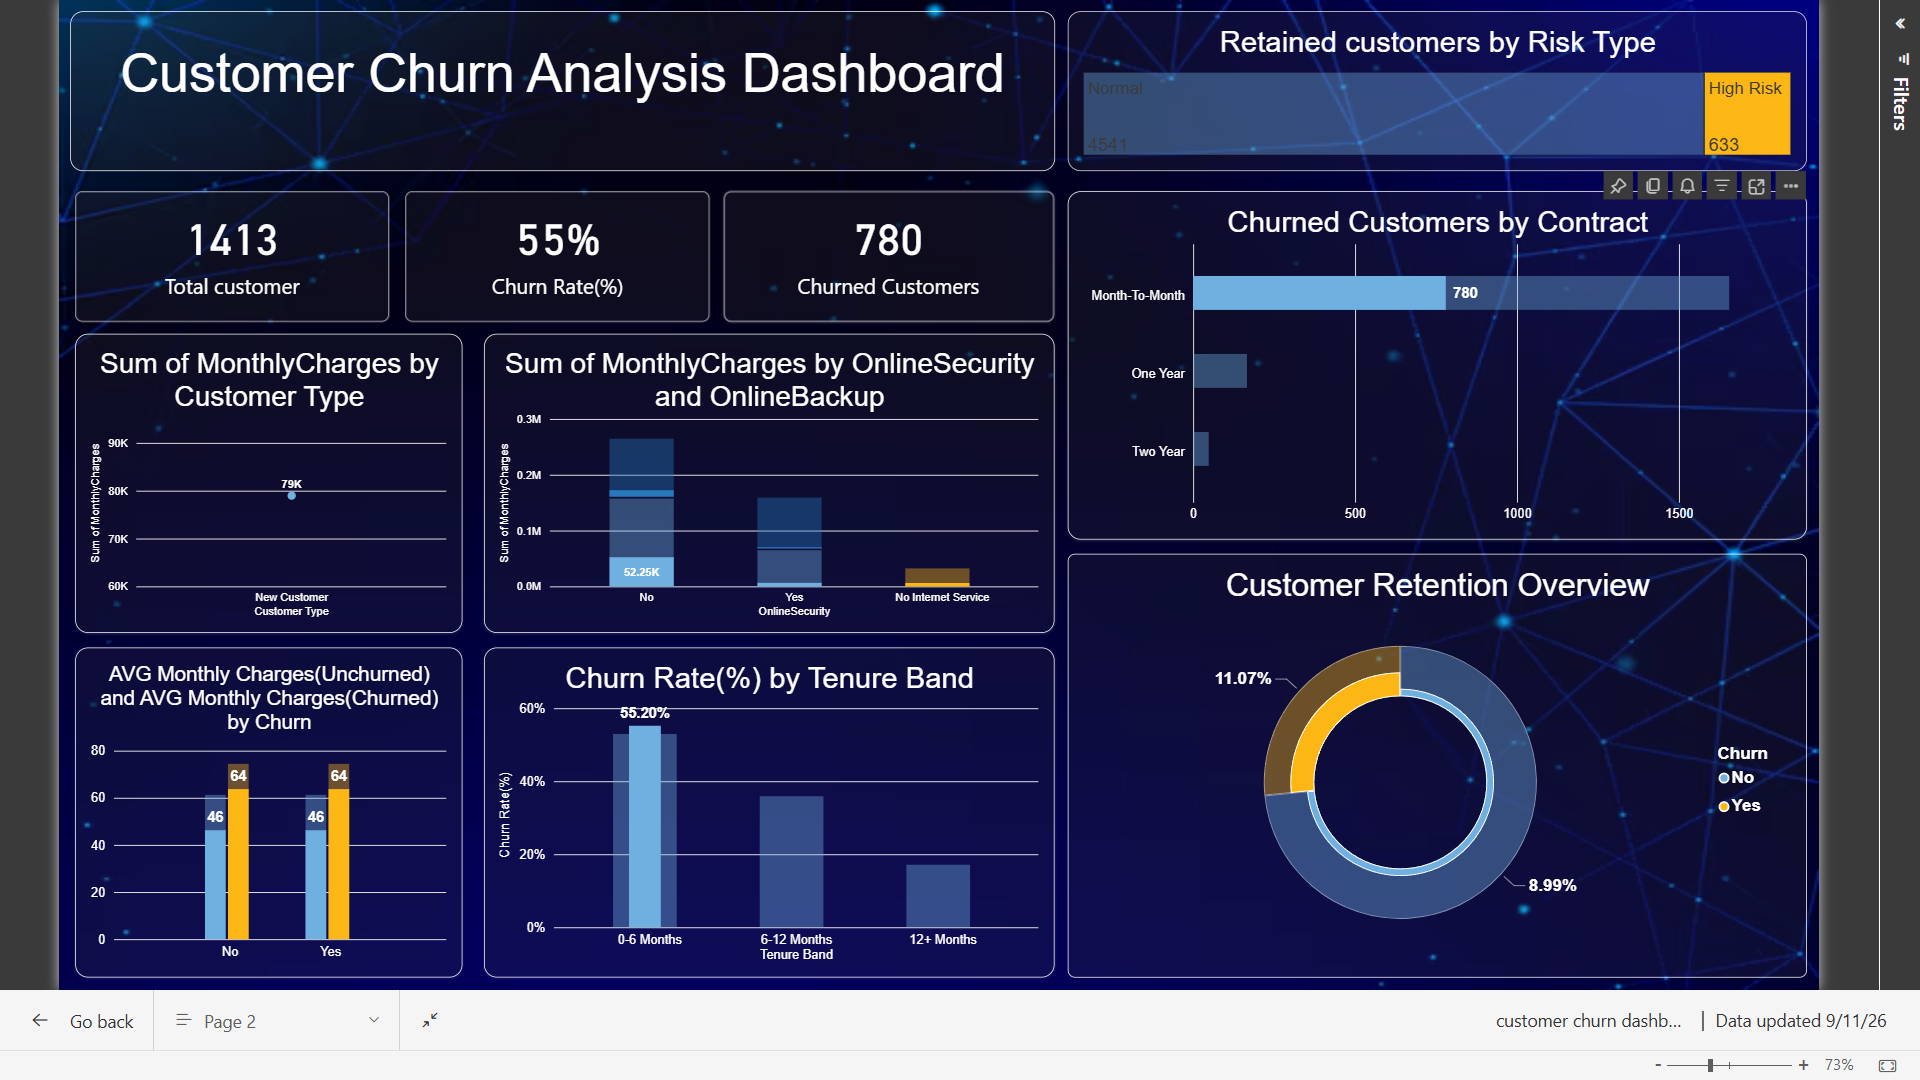

Layout of this report page (visuals, bound fields, positions):
{"tool":"powerbi","page":{"name":"Page 2","canvas":[1920,1080],"ordinal":0},"visuals":[{"type":"textbox","box":[12,12,1074,174],"z":0},{"type":"treemap","fields":{"Group":["telco_churn_unclean.Risk Type"],"Values":["calculated measure.retained customers"]},"box":[1100,12,806,174],"z":1000},{"type":"advanceCardE03760C5AB684758B56AA29F9E6C257B","fields":{"mainMeasure":["calculated measure.total customer"]},"box":[18,208,342,142],"z":2000},{"type":"advanceCardE03760C5AB684758B56AA29F9E6C257B","fields":{"mainMeasure":["calculated measure.Churn Rate(%)"]},"box":[378,208,332,142],"z":3000},{"type":"advanceCardE03760C5AB684758B56AA29F9E6C257B","fields":{"mainMeasure":["calculated measure.Churned Customers"]},"box":[726,208,360,142],"z":4000},{"type":"donutChart","title":"Customer Retention Overview","fields":{"Category":["telco_churn_unclean.Churn"],"Y":["calculated measure.total customer"]},"box":[1100,604,806,462],"z":5000},{"type":"barChart","fields":{"Category":["telco_churn_unclean.Contract"],"Y":["calculated measure.Churned Customers"]},"box":[1100,208,806,380],"z":6000},{"type":"columnChart","fields":{"Category":["telco_churn_unclean.OnlineSecurity"],"Series":["telco_churn_unclean.OnlineBackup"],"Y":["Sum(telco_churn_unclean.MonthlyCharges)"]},"box":[464,364,622,326],"z":7000},{"type":"clusteredColumnChart","fields":{"Category":["telco_churn_unclean.Tenure Band"],"Y":["calculated measure.Churn Rate(%)"]},"box":[464,706,622,360],"z":8000},{"type":"clusteredColumnChart","title":"AVG Monthly Charges(Unchurned) and AVG Monthly Charges(Churned) by Churn","fields":{"Category":["telco_churn_unclean.Churn"],"Y":["calculated measure.AVG Monthly Charges(Unchurned)","calculated measure.AVG Monthly Charges(Churned)"]},"box":[18,706,422,360],"z":9000},{"type":"lineChart","fields":{"Category":["telco_churn_unclean.Customer Type"],"Y":["Sum(telco_churn_unclean.MonthlyCharges)"]},"box":[18,364,422,326],"z":10000}]}

Visuals, with their boxes on the page's 1920x1080 design canvas (x1, y1, x2, y2). These are canvas units, not pixel positions in the 1920x1080 screenshot, which may show the page scaled, cropped or inside an application window:
textbox: region(12, 12, 1086, 186)
treemap - telco_churn_unclean.Risk Type x calculated measure.retained customers: region(1100, 12, 1906, 186)
advanceCardE03760C5AB684758B56AA29F9E6C257B - calculated measure.total customer: region(18, 208, 360, 350)
advanceCardE03760C5AB684758B56AA29F9E6C257B - calculated measure.Churn Rate(%): region(378, 208, 710, 350)
advanceCardE03760C5AB684758B56AA29F9E6C257B - calculated measure.Churned Customers: region(726, 208, 1086, 350)
"Customer Retention Overview" donutChart: region(1100, 604, 1906, 1066)
barChart - telco_churn_unclean.Contract x calculated measure.Churned Customers: region(1100, 208, 1906, 588)
columnChart - telco_churn_unclean.OnlineSecurity x telco_churn_unclean.OnlineBackup: region(464, 364, 1086, 690)
clusteredColumnChart - telco_churn_unclean.Tenure Band x calculated measure.Churn Rate(%): region(464, 706, 1086, 1066)
"AVG Monthly Charges(Unchurned) and AVG Monthly Charges(Churned) by Churn" clusteredColumnChart: region(18, 706, 440, 1066)
lineChart - telco_churn_unclean.Customer Type x Sum(telco_churn_unclean.MonthlyCharges): region(18, 364, 440, 690)
